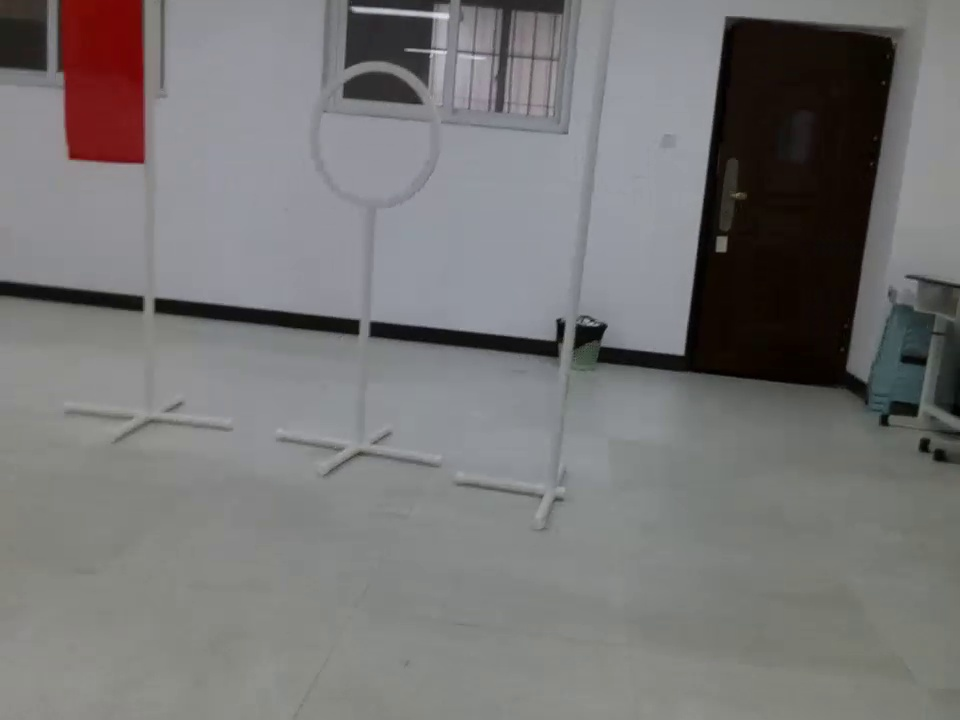gan: (547, 1, 619, 495)
qi: (53, 3, 159, 170)
quan: (312, 71, 436, 213)
